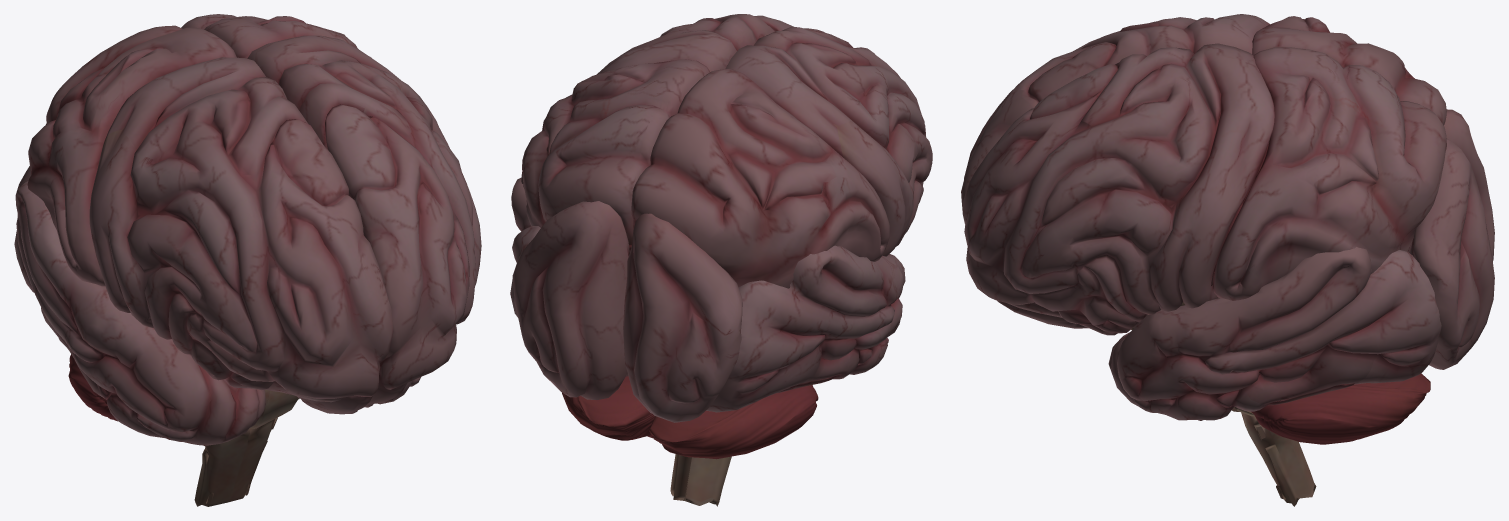
Rendered from Full Brain.gltf.
3 renders of one model, left to right at view 1: azimuth 30°, elevation 25°; view 2: azimuth 150°, elevation 25°; view 3: azimuth 270°, elevation 25°, orthographic. The views are drawn at different scales.
Visible parts, largest first — view 1: Frontal_Lobe_Right, Frontal_Lobe_Left, Temporal_Lobe_Right, Parietal_Lobe_Right, Nervous_Brain_Stem, Parietal_Lobe_Left, Nervous_Full_Cerebellum_1; view 2: Parietal_Lobe_Right, Frontal_Lobe_Right, Temporal_Lobe_Right, Occipital_Lob_Right, Occipital_Lob_Left, Parietal_Lobe_Left, Nervous_Full_Cerebellum_1, Frontal_Lobe_Left, Nervous_Full_Cerebellum_2, Nervous_Brain_Stem, Temporal_Lobe_Left; view 3: Frontal_Lobe_Left, Temporal_Lobe_Left, Parietal_Lobe_Left, Occipital_Lob_Left, Frontal_Lobe_Right, Nervous_Full_Cerebellum_2, Parietal_Lobe_Right, Nervous_Brain_Stem, Occipital_Lob_Right.
Boxes of the visible parts, bbox=[...] form: Frontal_Lobe_Right: bbox=[89, 57, 393, 414]; Frontal_Lobe_Left: bbox=[247, 35, 481, 407]; Temporal_Lobe_Right: bbox=[14, 181, 265, 445]; Parietal_Lobe_Right: bbox=[27, 25, 236, 286]; Nervous_Brain_Stem: bbox=[194, 390, 299, 506]; Parietal_Lobe_Left: bbox=[181, 14, 371, 58]; Nervous_Full_Cerebellum_1: bbox=[68, 354, 117, 421]; Parietal_Lobe_Right: bbox=[631, 69, 889, 288]; Frontal_Lobe_Right: bbox=[725, 26, 932, 256]; Temporal_Lobe_Right: bbox=[706, 245, 905, 412]; Occipital_Lob_Right: bbox=[623, 213, 742, 422]; Occipital_Lob_Left: bbox=[512, 201, 629, 399]; Parietal_Lobe_Left: bbox=[521, 59, 709, 255]; Nervous_Full_Cerebellum_1: bbox=[649, 385, 818, 459]; Frontal_Lobe_Left: bbox=[597, 14, 793, 74]; Nervous_Full_Cerebellum_2: bbox=[562, 376, 654, 440]; Nervous_Brain_Stem: bbox=[670, 454, 731, 506]; Temporal_Lobe_Left: bbox=[510, 177, 628, 376]; Frontal_Lobe_Left: bbox=[962, 43, 1274, 335]; Temporal_Lobe_Left: bbox=[1108, 247, 1441, 420]; Parietal_Lobe_Left: bbox=[1211, 47, 1446, 300]; Occipital_Lob_Left: bbox=[1410, 138, 1494, 369]; Frontal_Lobe_Right: bbox=[961, 14, 1270, 245]; Nervous_Full_Cerebellum_2: bbox=[1251, 373, 1430, 444]; Parietal_Lobe_Right: bbox=[1252, 16, 1446, 125]; Nervous_Brain_Stem: bbox=[1131, 297, 1316, 506]; Occipital_Lob_Right: bbox=[1444, 109, 1494, 261].
Size of the model in its own units: 12.74 by 15.71 by 16.57.
2 materials, 2 textured.
